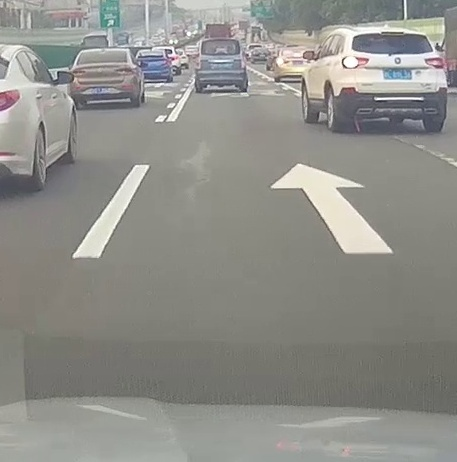L_light: (342, 55, 370, 68), (72, 70, 86, 74), (196, 57, 200, 68)
R_light: (425, 57, 444, 68), (117, 68, 134, 73), (242, 57, 246, 67)
T_light: (382, 32, 403, 35), (98, 51, 109, 55), (216, 40, 226, 42)
day-left: (340, 29, 447, 132)
day-no: (68, 49, 136, 107), (195, 38, 248, 92)
